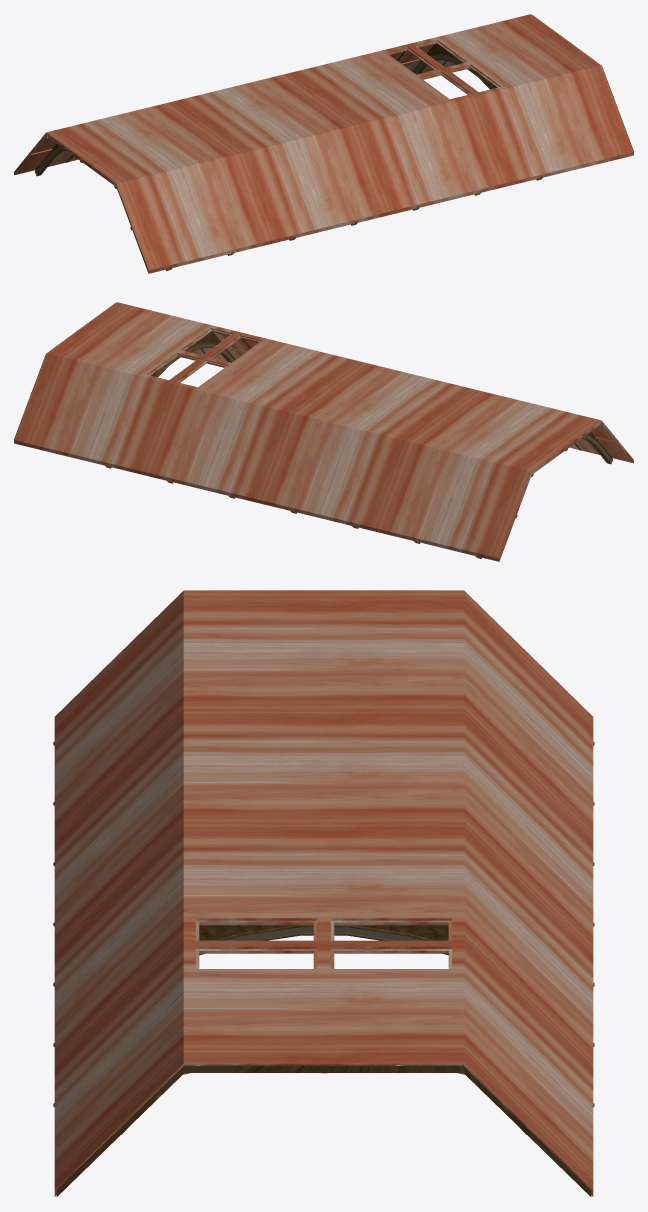
The model's file is Roof.fbx.
3 views of the same model, one above another, from view 1: azimuth 30°, elevation 25°; view 2: azimuth 150°, elevation 25°; view 3: azimuth 270°, elevation 25° (orthographic). The views are drawn at different scales.
Visible parts, largest first — view 1: Cube.038, Cylinder.001; view 2: Cube.038, Cylinder.001; view 3: Cube.038, Cylinder.001.
Boxes of the visible parts, box(x1,y1,x2,y2) form: Cube.038: box(14, 14, 633, 273); Cylinder.001: box(35, 43, 542, 270); Cube.038: box(14, 302, 633, 561); Cylinder.001: box(105, 331, 612, 558); Cube.038: box(54, 590, 593, 1196); Cylinder.001: box(53, 741, 594, 1106).
Bounding box in the file's own units: 3106 × 431 × 1496.
